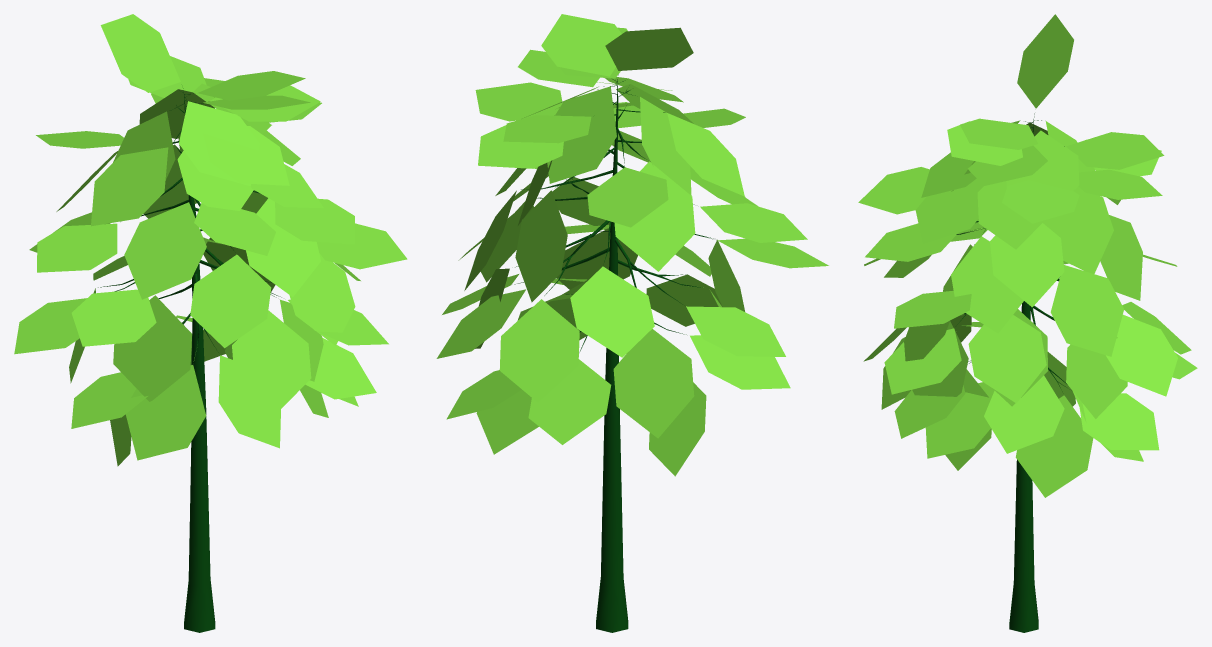
File: tree4.fbx
3 renders of one model, left to right at view 1: azimuth 30°, elevation 25°; view 2: azimuth 150°, elevation 25°; view 3: azimuth 270°, elevation 25°, orthographic. The views are drawn at different scales.
Parts seen in each view (by area): view 1: tree4; view 2: tree4; view 3: tree4.
Boxes of the visible parts, <box> form: tree4: <box>14,14,407,632</box>; tree4: <box>436,14,828,632</box>; tree4: <box>858,14,1197,632</box>.
Bounding box in the file's own units: 2045 × 3474 × 1864.
